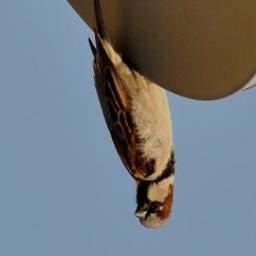Swallow: (89, 0, 178, 230)
